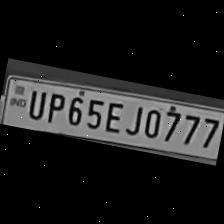0: (140, 104, 164, 140)
5: (81, 94, 106, 131)
6: (62, 92, 86, 128)
7: (195, 113, 221, 150), (177, 110, 201, 148), (159, 106, 182, 144)
E: (100, 98, 125, 135)
J: (121, 100, 145, 138)
P: (42, 89, 66, 126)
U: (22, 86, 48, 122)
